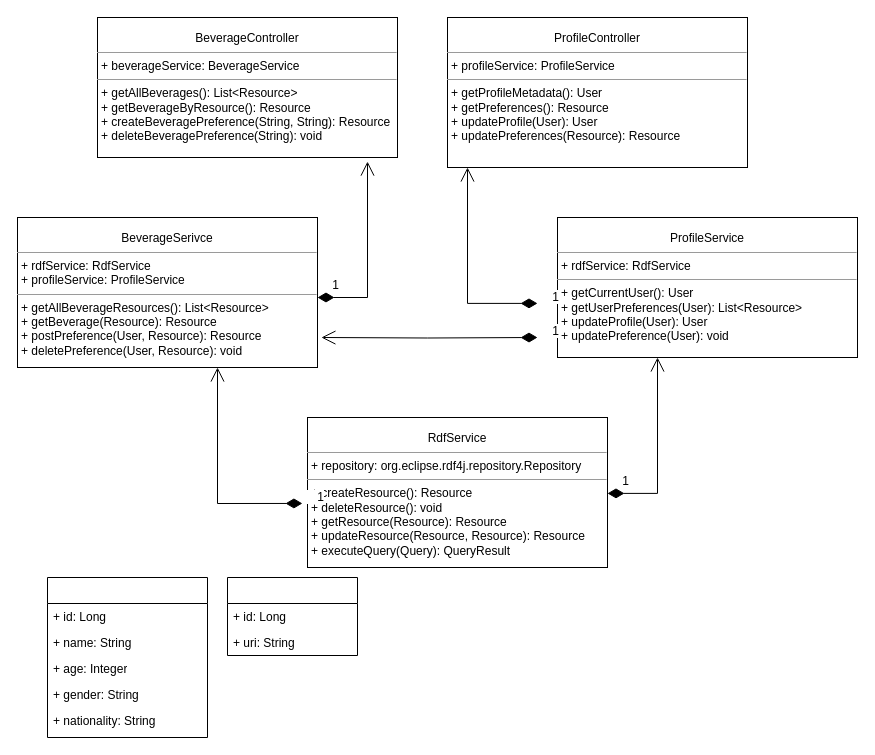
Image size: 875x755. Some labels were removed from this diagram. The box of each missing label's shape, as (x1, y1, x2, y2) in pixels:
Resource: (226, 576, 358, 656)
User: (46, 576, 208, 738)
